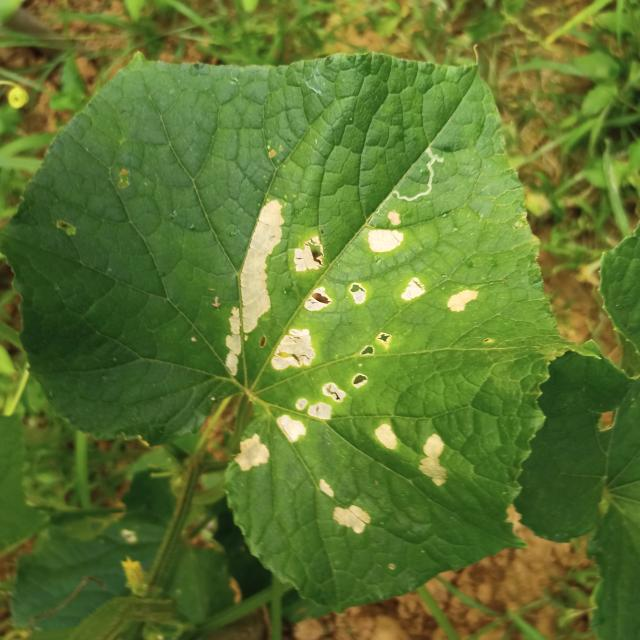disease_cucumber: (224, 200, 486, 475), (374, 417, 449, 492), (316, 479, 371, 535)
